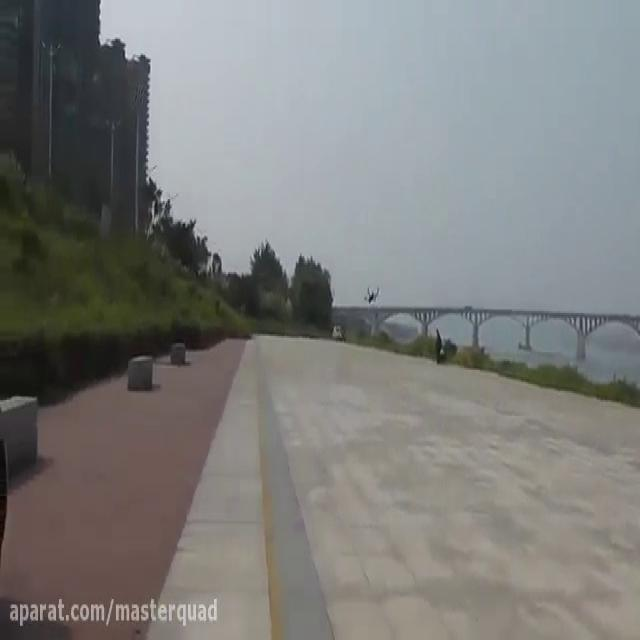drone: (362, 281, 381, 306)
